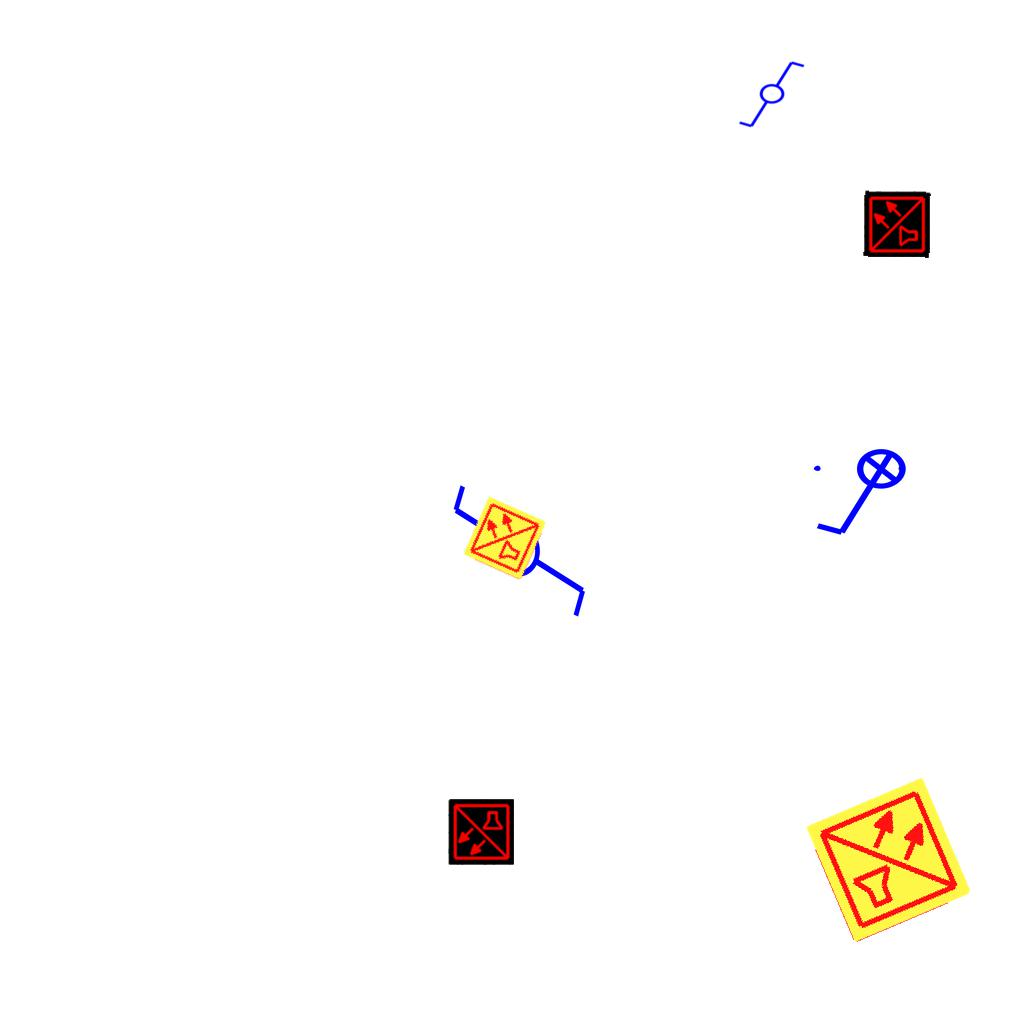Ausschalter_beleuchtet: (808, 447, 920, 543)
OKW_Multisensormelder_(Kombination_optischer_Rauch-Kahlenmonoxid_Waerme-Melder): (802, 773, 976, 947), (461, 494, 549, 582), (863, 190, 931, 258), (448, 799, 514, 865)
Wechselschalter: (446, 481, 590, 638), (737, 59, 815, 131)
